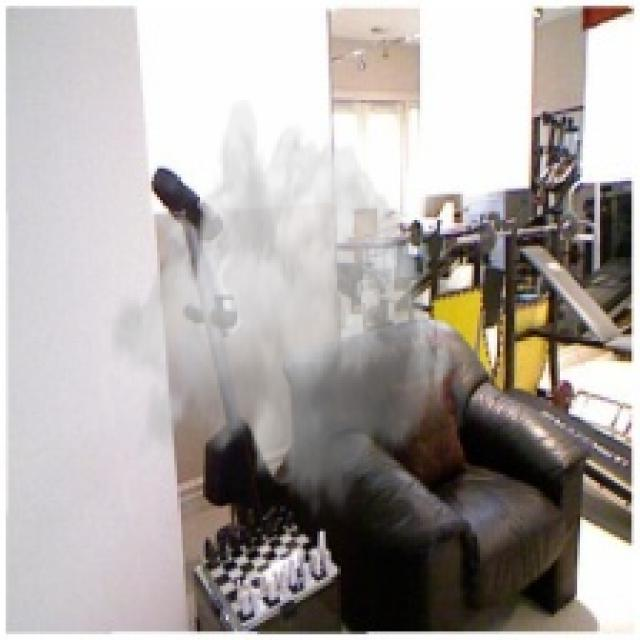smoke: (112, 100, 457, 526)
